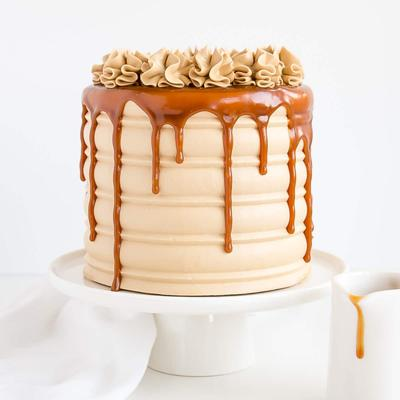cake: (76, 43, 316, 297)
